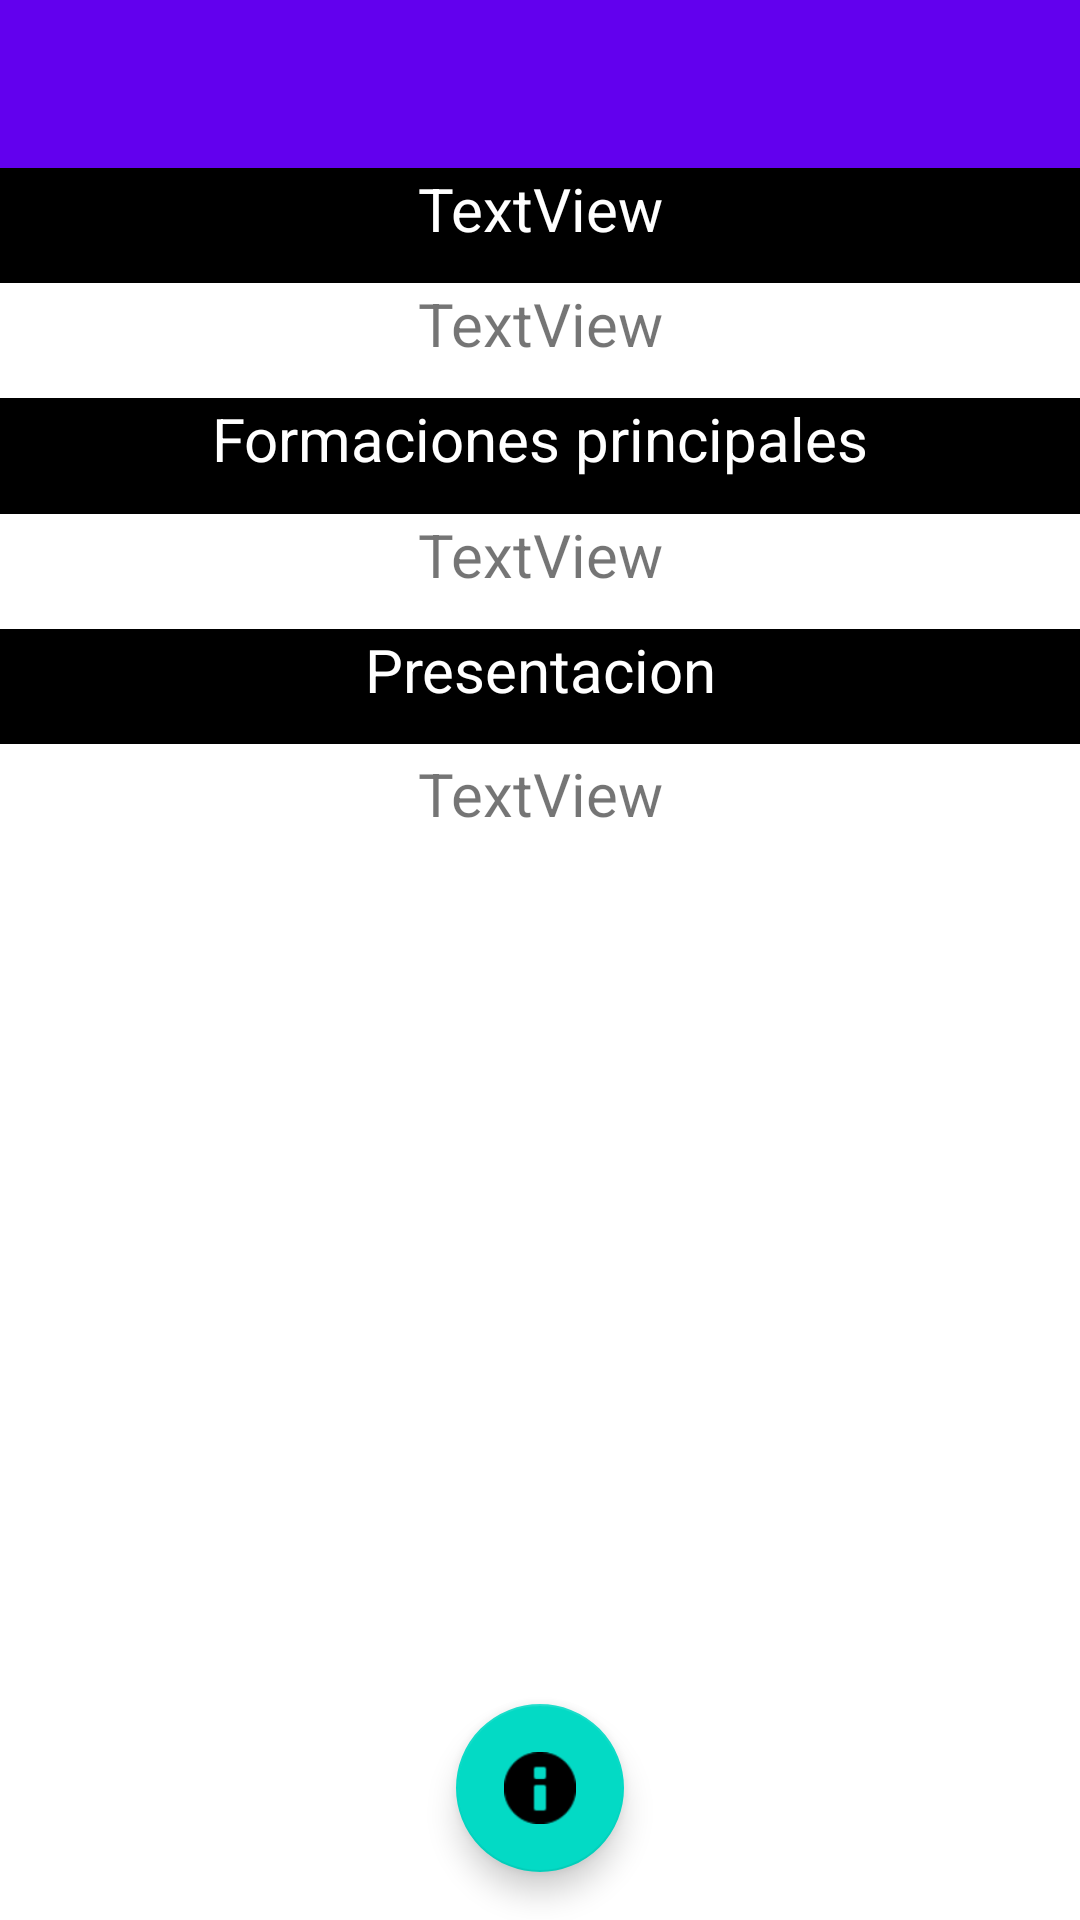

Point at icon controls on the screen. Image size 1080×1920, points as [x,y].
info: [540,1788]
